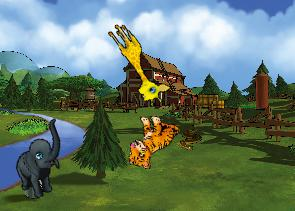elephant: (3, 118, 79, 202)
giraffe: (97, 19, 174, 110)
tiger: (125, 111, 180, 173)
